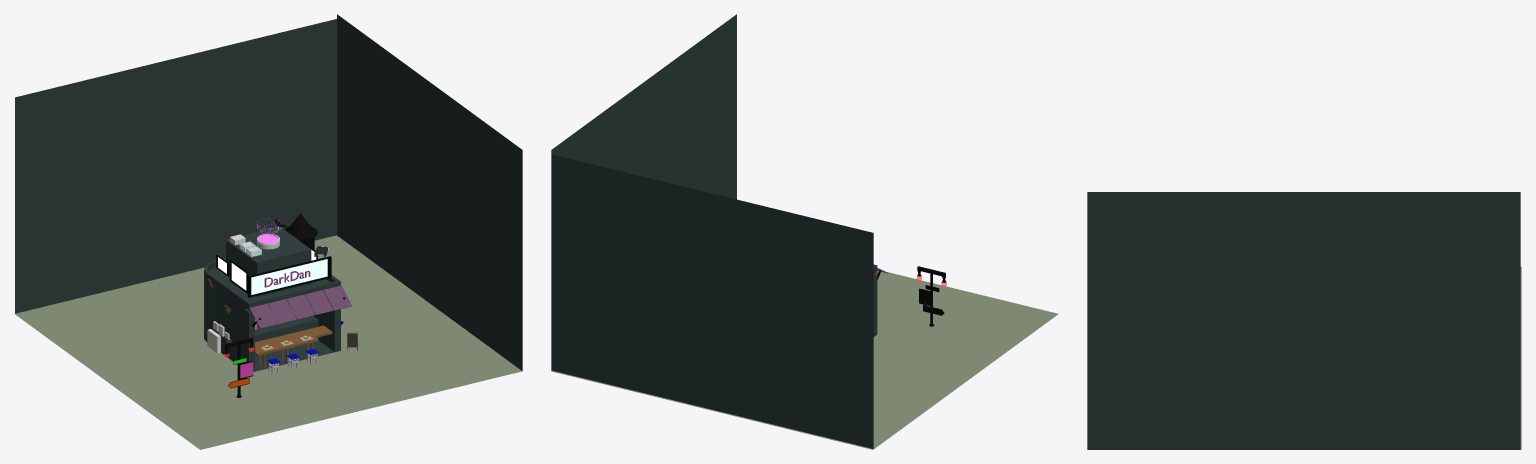
File: darkdan.glb
3 renders of one model, left to right at view 1: azimuth 30°, elevation 25°; view 2: azimuth 150°, elevation 25°; view 3: azimuth 270°, elevation 25°, orthographic. The views are drawn at different scales.
Parts seen in each view (by area): view 1: Plane.001, suelo, Plane.002, casa, darkdan, mesa, poste, pantallas, poste.001; view 2: Plane.001, Plane.002, suelo, poste; view 3: Plane.002.
Part boxes in pixels (x1,y1,x2,y2): Plane.001: [15, 19, 336, 313]; suelo: [14, 235, 521, 449]; Plane.002: [337, 14, 522, 370]; casa: [204, 227, 351, 371]; darkdan: [247, 256, 331, 297]; mesa: [255, 330, 318, 368]; poste: [224, 337, 254, 397]; pantallas: [216, 240, 317, 293]; poste.001: [284, 213, 317, 249]; Plane.001: [551, 154, 873, 448]; Plane.002: [551, 14, 736, 370]; suelo: [551, 271, 1058, 449]; poste: [916, 266, 946, 326]; Plane.002: [1087, 192, 1520, 449].
Bounding box in the file's own units: 97.38 × 64.22 × 97.45.
